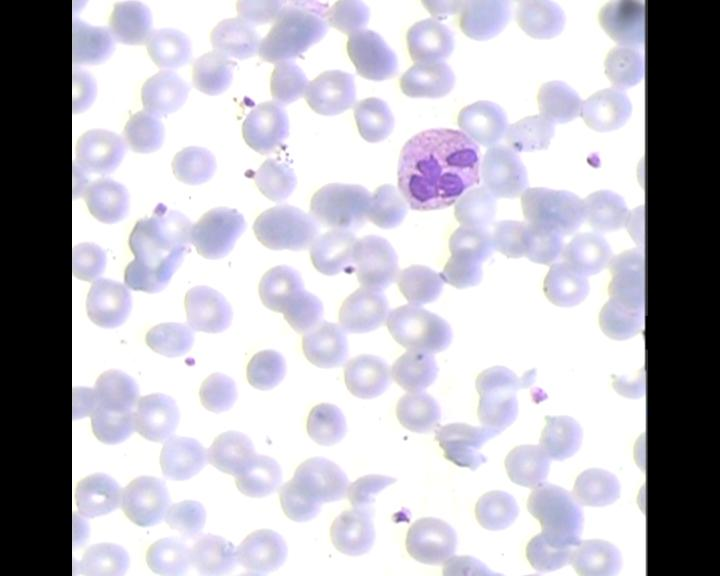neut: (394, 128, 483, 211)
